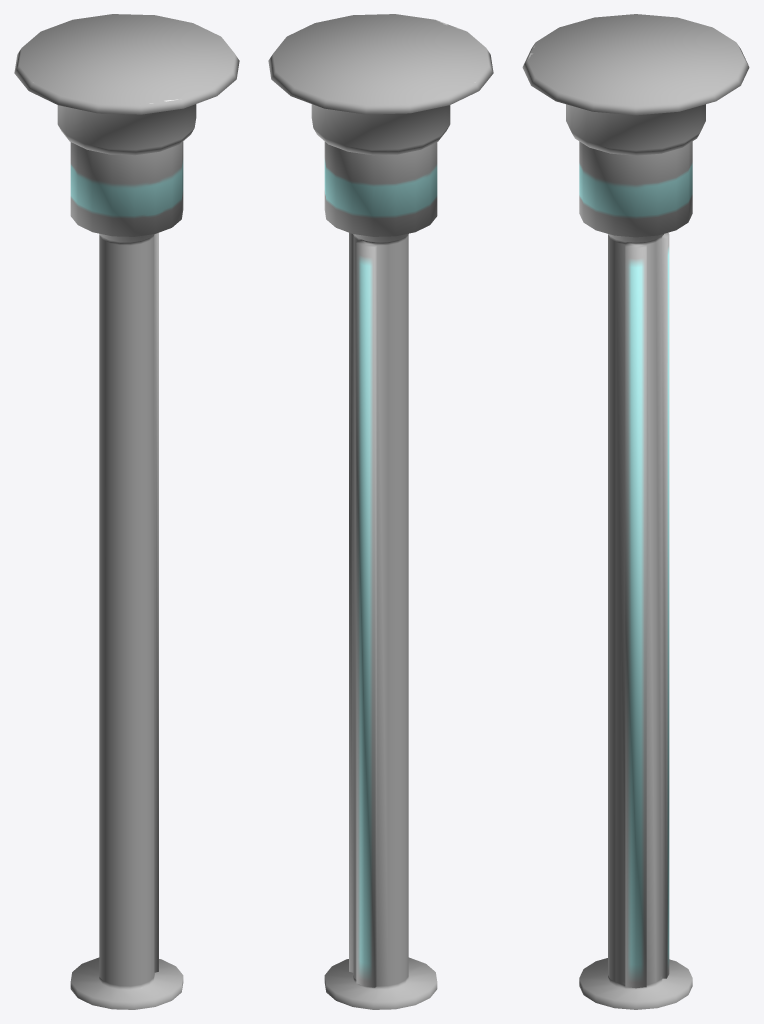
Rendered from FenceCornerPole.fbx.
3 renders of one model, left to right at view 1: azimuth 30°, elevation 25°; view 2: azimuth 150°, elevation 25°; view 3: azimuth 270°, elevation 25°, orthographic.
Parts seen in each view (by area): view 1: FenceCornerPole; view 2: FenceCornerPole; view 3: FenceCornerPole.
Part boxes in pixels (<box>): FenceCornerPole: <box>14,14,239,1009</box>; FenceCornerPole: <box>268,14,493,1009</box>; FenceCornerPole: <box>522,14,749,1009</box>.
Size of the model in its own units: 70.83 by 319 by 70.83.
